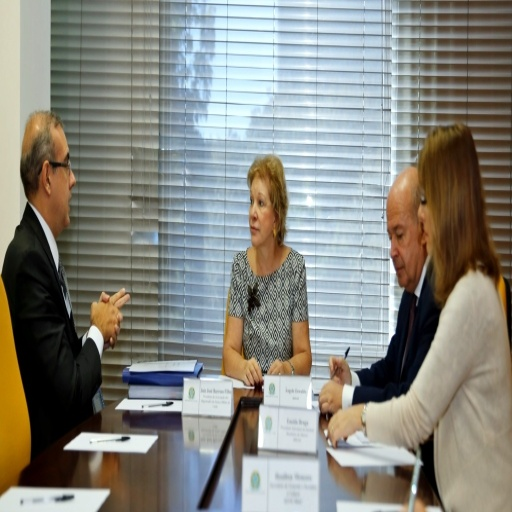hand: (96, 283, 131, 343), (326, 400, 360, 447), (317, 380, 342, 415), (329, 351, 352, 385), (240, 356, 261, 386), (265, 357, 287, 376)
